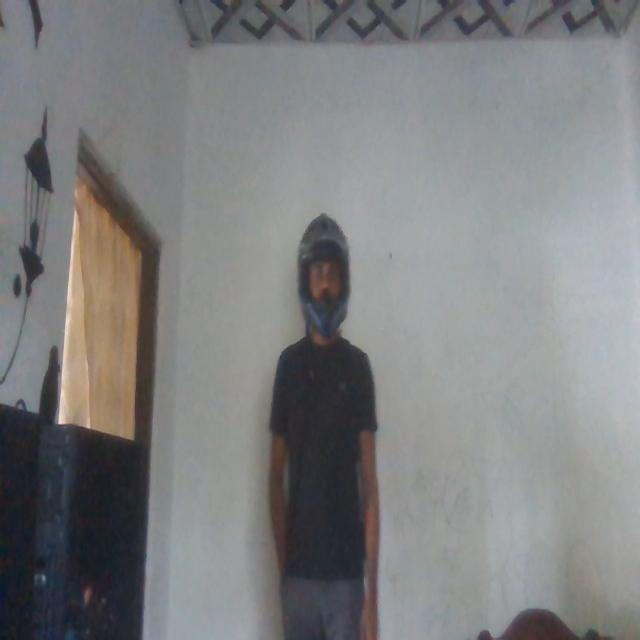Helmet_Wearer: (288, 214, 360, 342)
Person: (268, 212, 389, 640)
